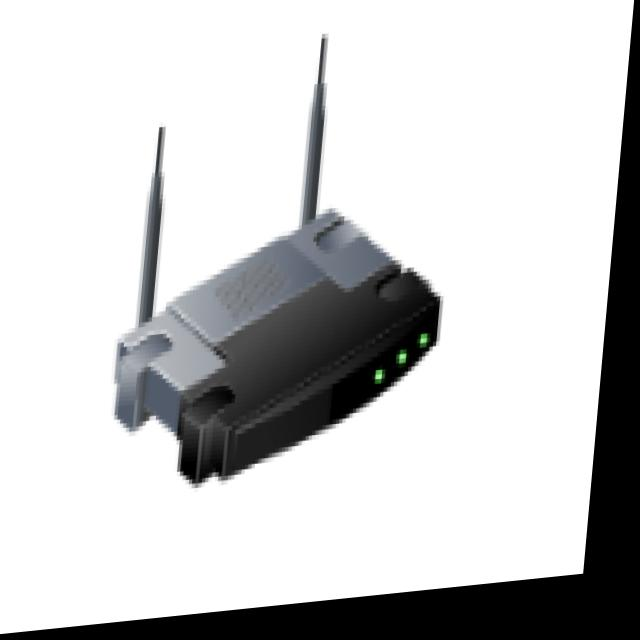Router: (0, 0, 581, 548)
